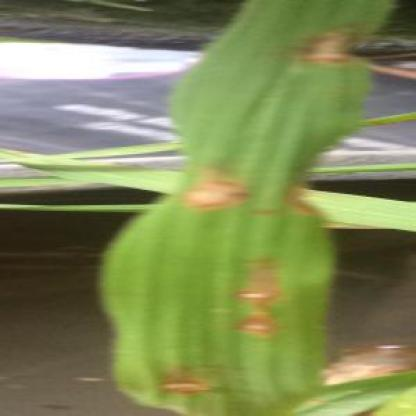Rice blast: (224, 259, 288, 368), (305, 20, 359, 72), (186, 177, 247, 209), (161, 376, 219, 401), (291, 187, 323, 227)
